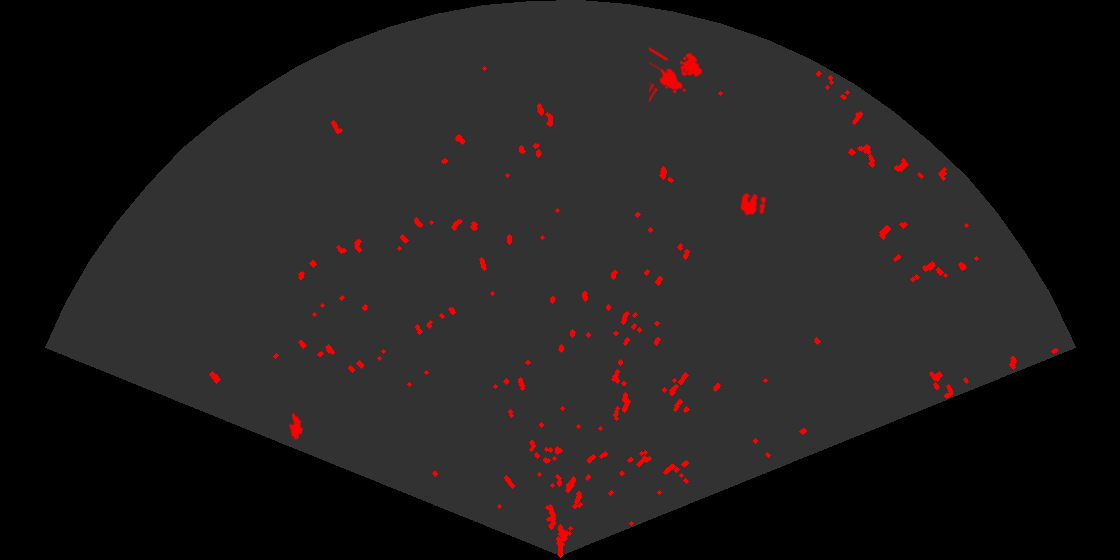AUV: (287, 411, 306, 442)
ball: (739, 191, 768, 217)
cage: (649, 45, 704, 104)
